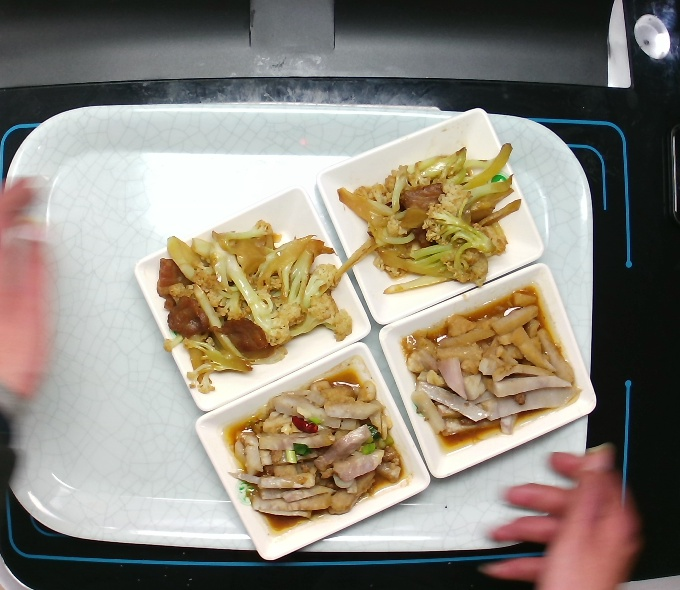wcq-QiuCaiChaoRou: (150, 218, 373, 393), (330, 132, 545, 297)
wcq-YuTou: (206, 366, 408, 537), (393, 288, 580, 464)
